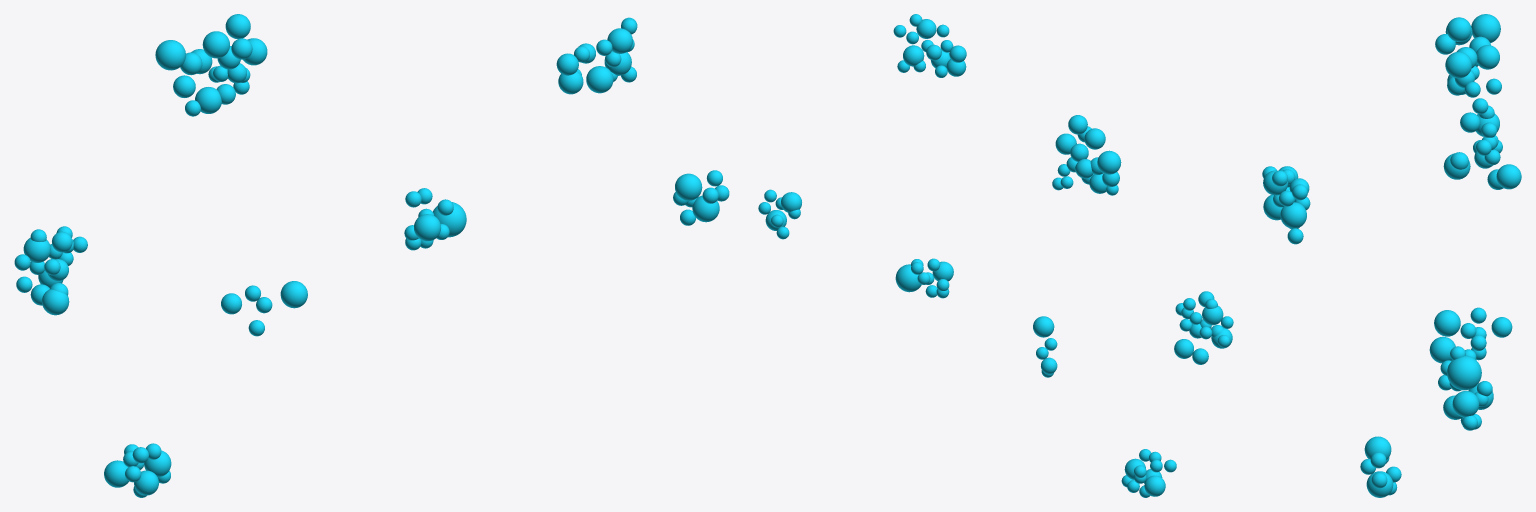
File: autoGenerate 2.fbx
3 renders of one model, left to right at view 1: azimuth 30°, elevation 25°; view 2: azimuth 150°, elevation 25°; view 3: azimuth 270°, elevation 25°, orthographic. The views are drawn at different scales.
Visible parts, largest first — view 1: no part large enough to name; view 2: no part large enough to name; view 3: Sphere__049_, Sphere__28_, Sphere__31_, Sphere__050_, Sphere__114_, Sphere__061_, Sphere__70_, Sphere__09_, Sphere__056_, Sphere__18_, Sphere__22_, Sphere__057_ (+6 smaller).
Part boxes in pixels (left/top/right/bottom): Sphere__049_: left=1447, top=355, right=1481, bottom=390; Sphere__28_: left=1471, top=14, right=1500, bottom=42; Sphere__31_: left=1445, top=51, right=1471, bottom=78; Sphere__050_: left=1434, top=310, right=1460, bottom=336; Sphere__114_: left=1452, top=391, right=1479, bottom=417; Sphere__061_: left=1280, top=202, right=1306, bottom=228; Sphere__70_: left=1496, top=164, right=1521, bottom=189; Sphere__09_: left=1429, top=336, right=1455, bottom=363; Sphere__056_: left=1446, top=17, right=1471, bottom=41; Sphere__18_: left=1476, top=45, right=1499, bottom=69; Sphere__22_: left=1364, top=436, right=1391, bottom=459; Sphere__057_: left=1366, top=471, right=1393, bottom=497.
Size of the model in its own units: 1536 by 1030 by 535.
